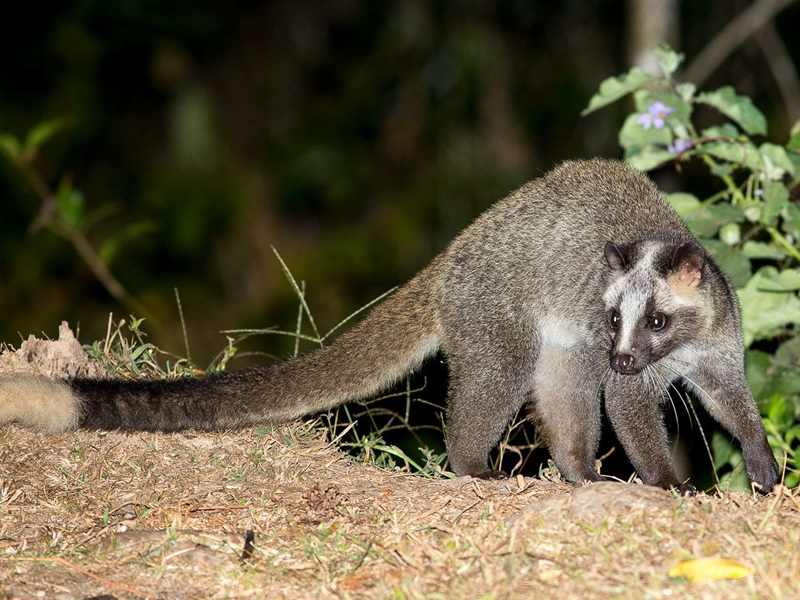Civet: (408, 147, 787, 500)
